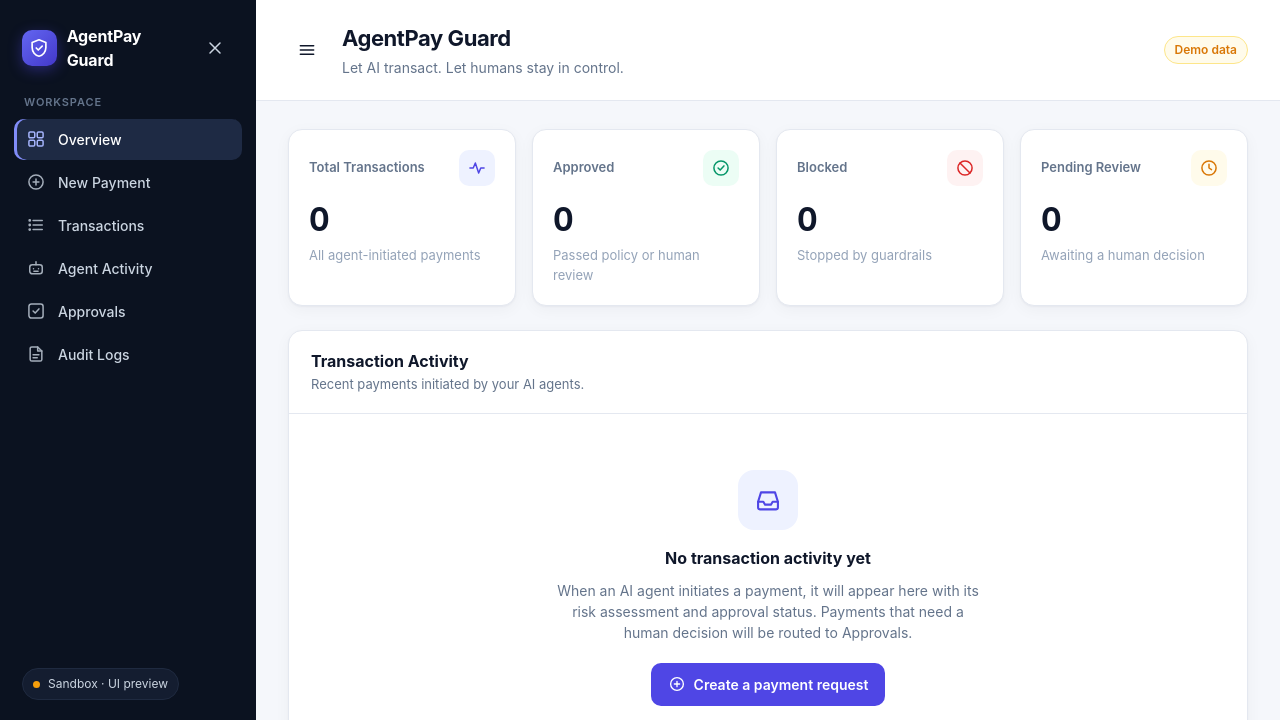
Test case: App navigation › Agent Activity still shows the placeholder
What coordinates should you click on to do the following:
click the button "Agent Activity"
I would click on:
 (128, 268)
Its box is [14,248,242,288].
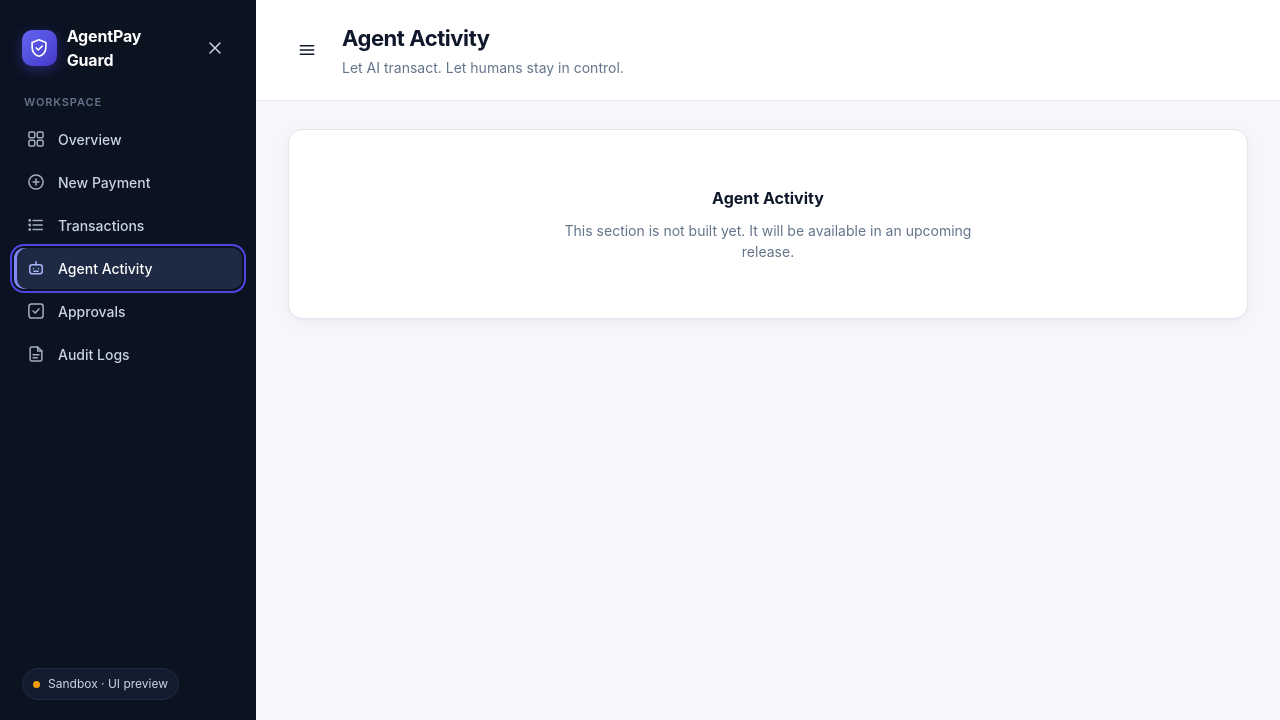
Result: the 1st heading "Agent Activity" is shown at [342,25,490,51]
Result: the text "This section is not built yet. It will be available in an upcoming release." is shown at [548,220,988,262]
